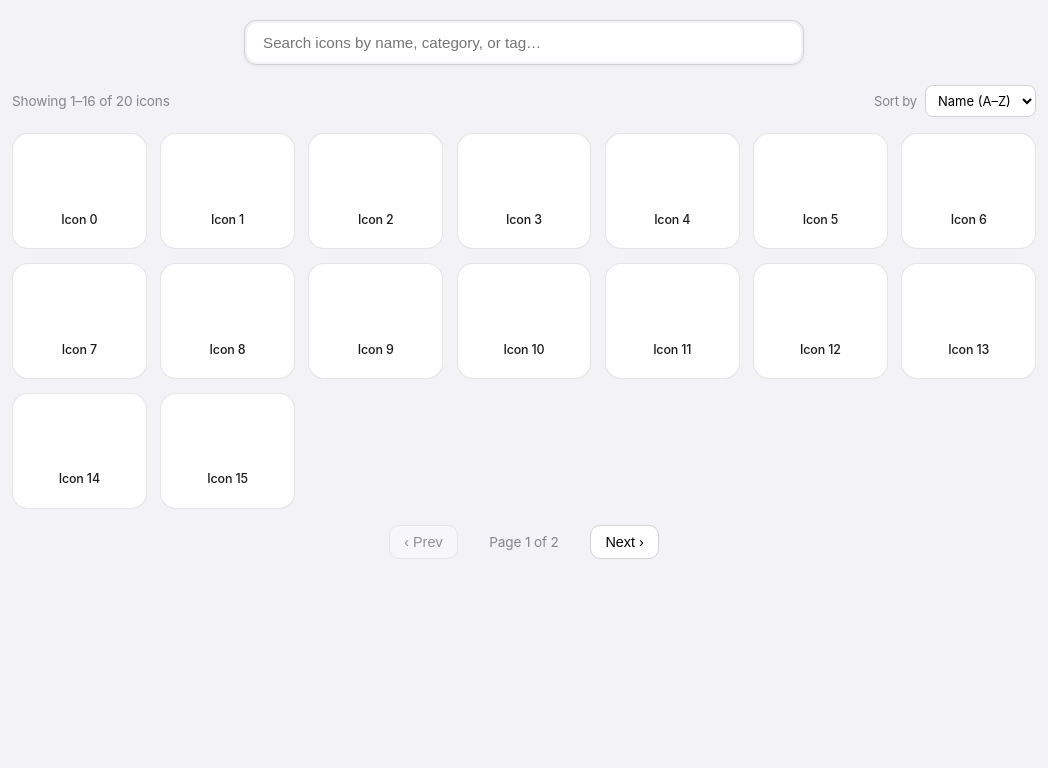
IconGrid › resets to page 1 when the search query changes
The image size is (1048, 768).
Click the button "Next ›" at (625, 542), box x1=590 y1=525 x2=659 y2=559
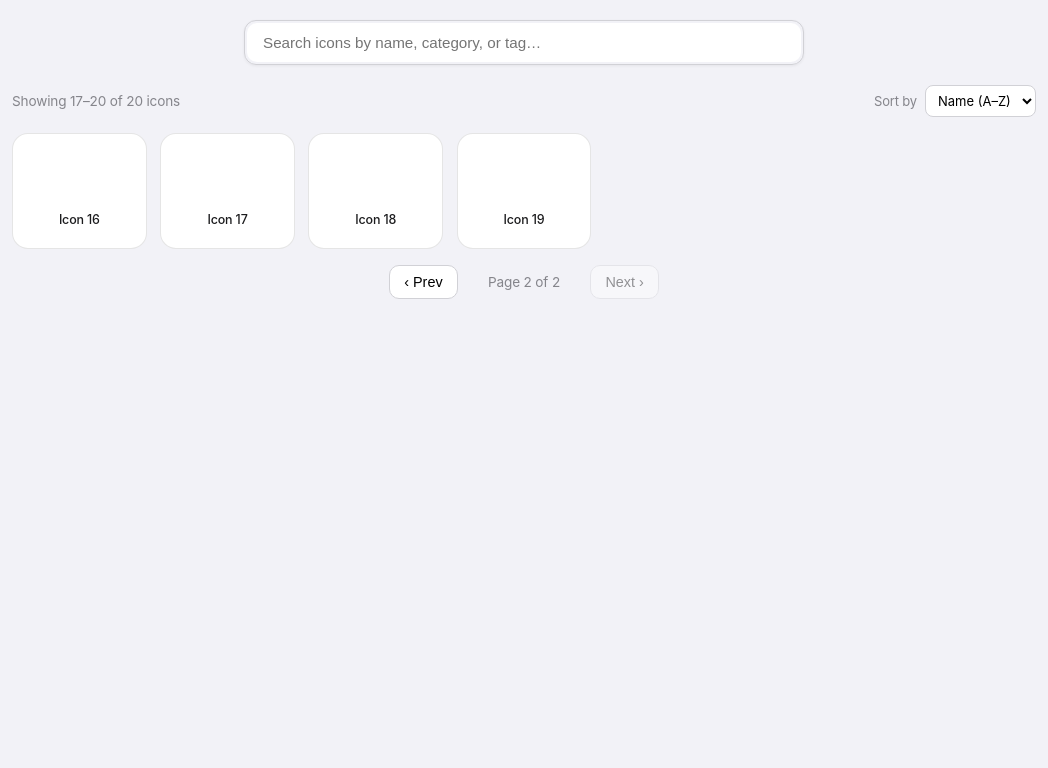
Expected: the text "Page 2 of 2" is shown, x1=488 y1=274 x2=560 y2=290
Type "icon-1" into the search field with placeholder "Search icons by name, category, or tag…" at (524, 43), box x1=247 y1=23 x2=801 y2=62
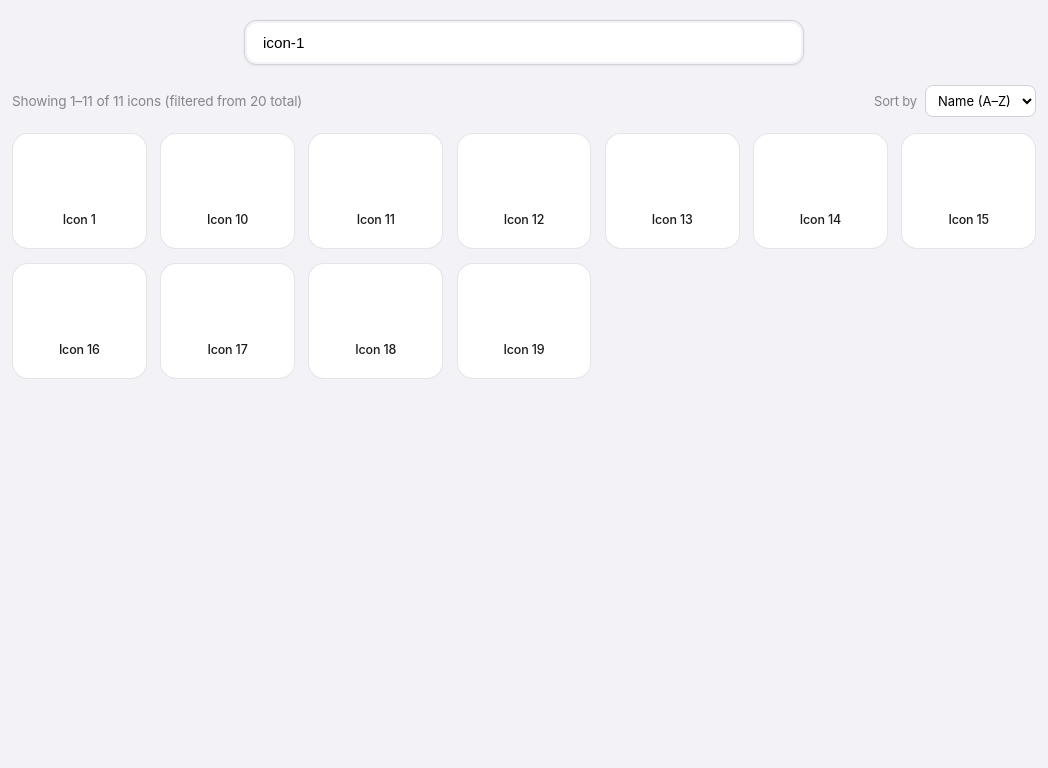
Expected: the text "Page 2 of 2" is gone
